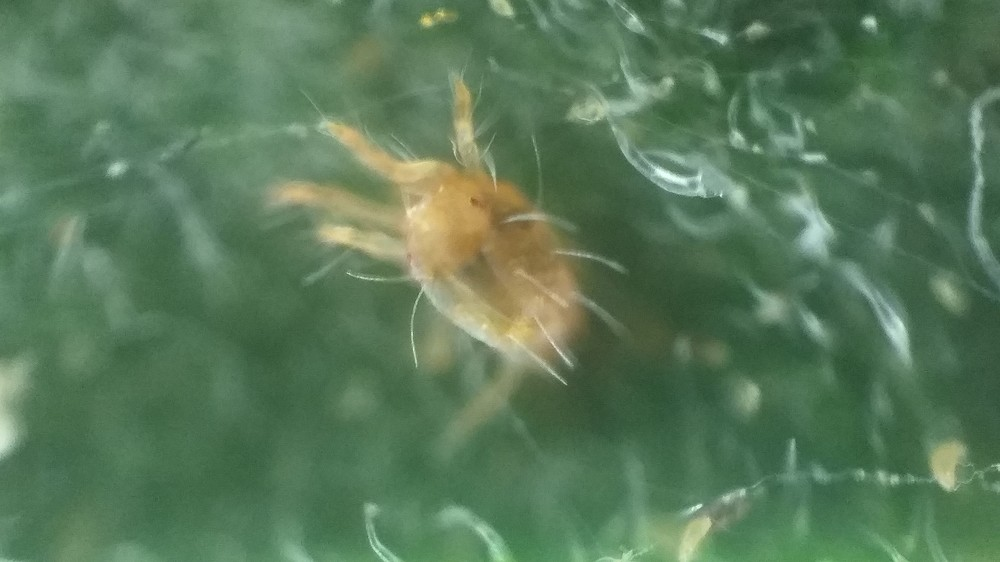Aracnido Rojo: (262, 65, 676, 456)
